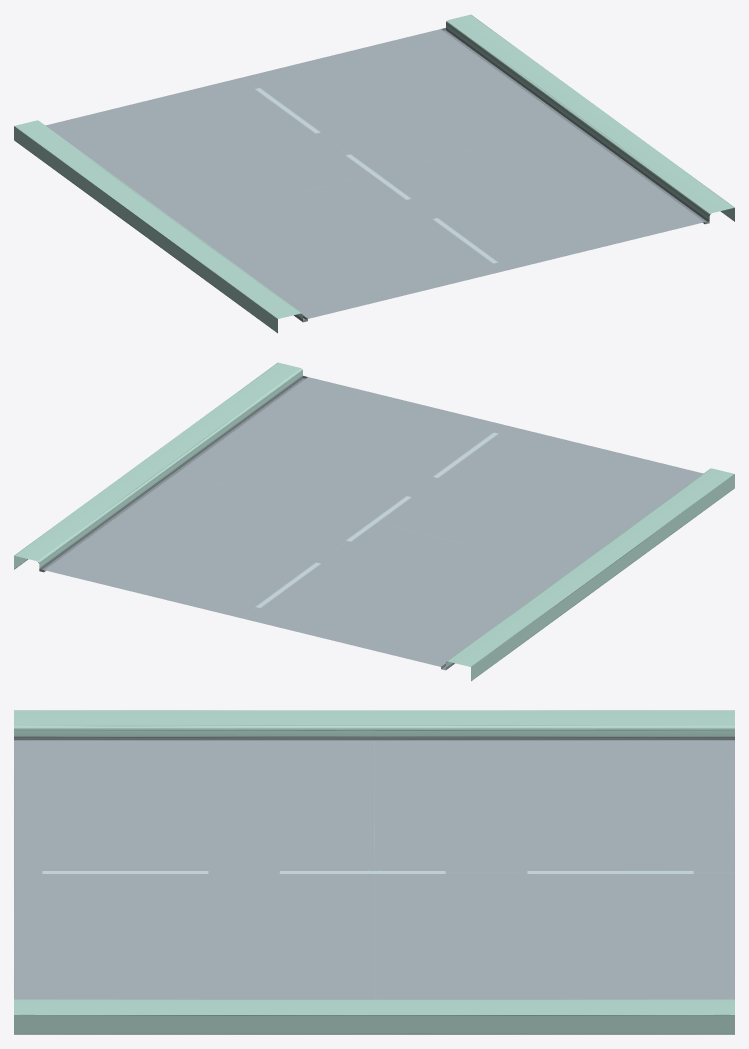
3 renders of one model, top to bottom at view 1: azimuth 30°, elevation 25°; view 2: azimuth 150°, elevation 25°; view 3: azimuth 270°, elevation 25°, orthographic. The views are drawn at different scales.
Parts seen in each view (by area): view 1: pPlane3; view 2: pPlane3; view 3: pPlane3.
Part boxes in pixels (x1,y1,x2,y2): pPlane3: [14, 14, 734, 333]; pPlane3: [14, 362, 734, 681]; pPlane3: [14, 710, 734, 1034].
Bounding box in the file's own units: 2 × 0.06 × 2.
Materials: 1 (1 with a texture image).
